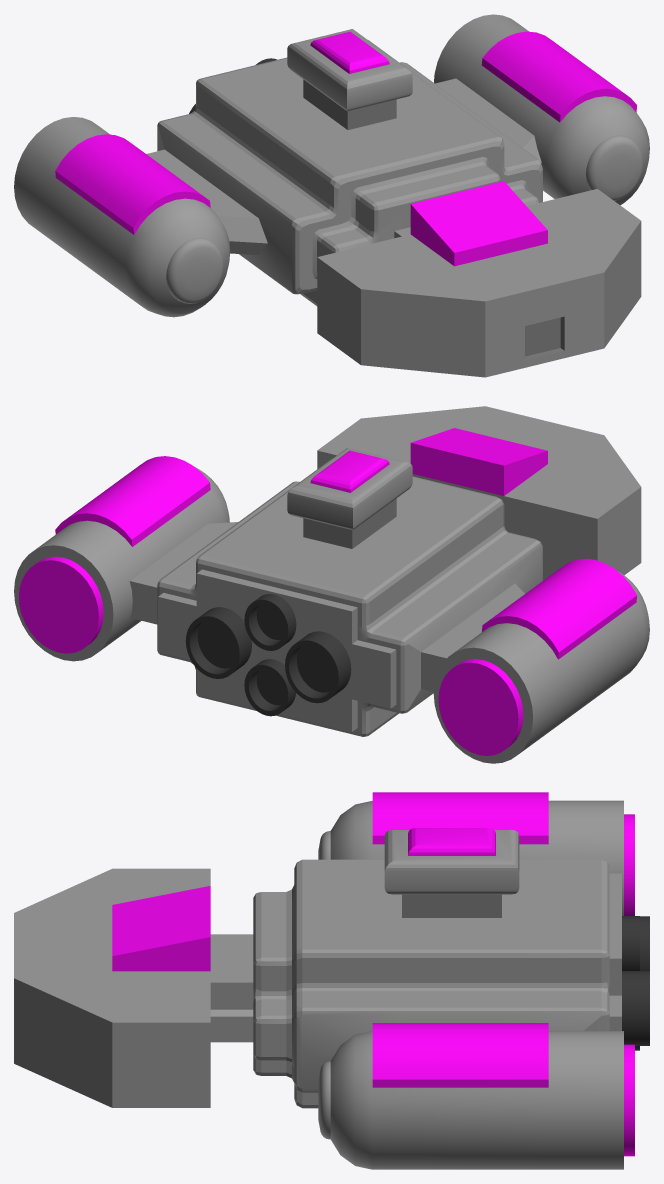
The model's file is BattleCruiser.fbx.
3 renders of one model, top to bottom at view 1: azimuth 30°, elevation 25°; view 2: azimuth 150°, elevation 25°; view 3: azimuth 270°, elevation 25°, orthographic. The views are drawn at different scales.
Visible parts, largest first — view 1: Cube.061, Cube.060, Cylinder.019; view 2: Cube.061, Cylinder.019, Cube.060, Cylinder.021; view 3: Cube.061, Cylinder.019, Cube.060, Cylinder.021.
Boxes of the visible parts, x1=… form: Cube.061: x1=146, y1=29, x2=542, y2=306; Cube.060: x1=317, y1=181, x2=641, y2=377; Cylinder.019: x1=14, y1=14, x2=649, y2=317; Cube.061: x1=129, y1=448, x2=542, y2=736; Cylinder.019: x1=14, y1=456, x2=649, y2=763; Cube.060: x1=317, y1=406, x2=641, y2=580; Cylinder.021: x1=185, y1=594, x2=351, y2=716; Cube.061: x1=253, y1=828, x2=621, y2=1108; Cylinder.019: x1=318, y1=792, x2=634, y2=1169; Cube.060: x1=14, y1=868, x2=253, y2=1107; Cylinder.021: x1=622, y1=916, x2=649, y2=1050.
Bounding box in the file's own units: 435 × 162 × 410.
